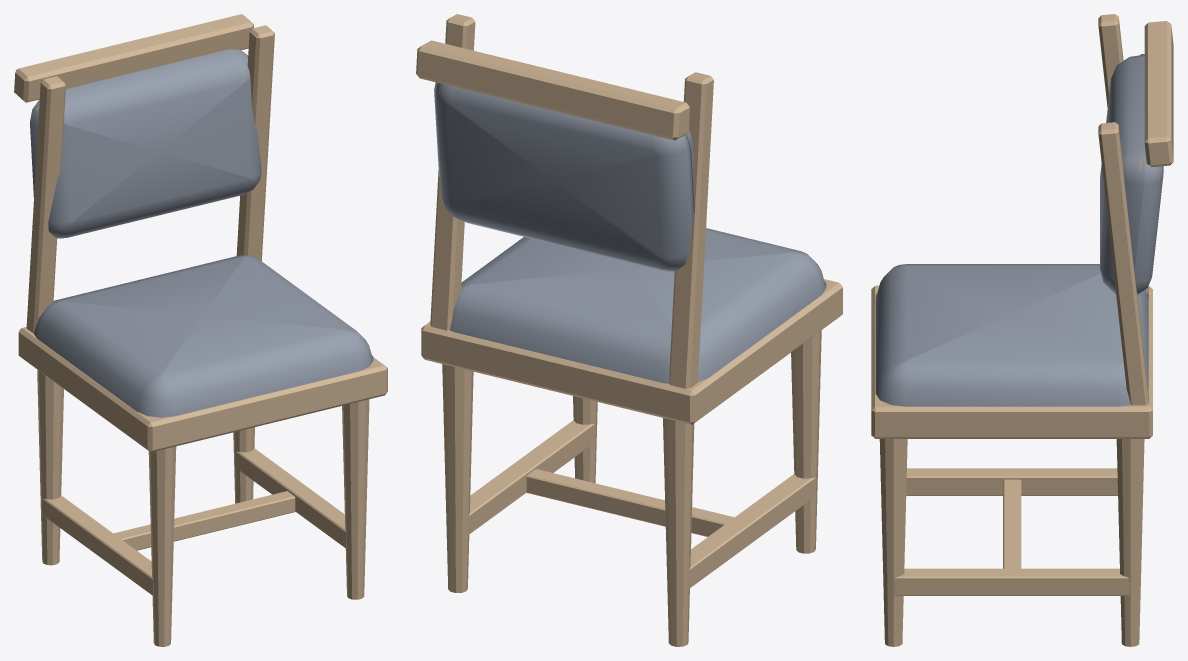
The model's file is guest_chair.glb.
3 views of the same model, side by side, from view 1: azimuth 30°, elevation 25°; view 2: azimuth 150°, elevation 25°; view 3: azimuth 270°, elevation 25° (orthographic). The views are drawn at different scales.
Parts seen in each view (by area): view 1: guest-chair-four-leg; view 2: guest-chair-four-leg; view 3: guest-chair-four-leg.
Boxes of the visible parts, bbox=[...] form: guest-chair-four-leg: bbox=[14, 14, 387, 646]; guest-chair-four-leg: bbox=[416, 14, 842, 646]; guest-chair-four-leg: bbox=[871, 14, 1173, 646].
Size of the model in its own units: 0.46 by 0.8986 by 0.4723.
